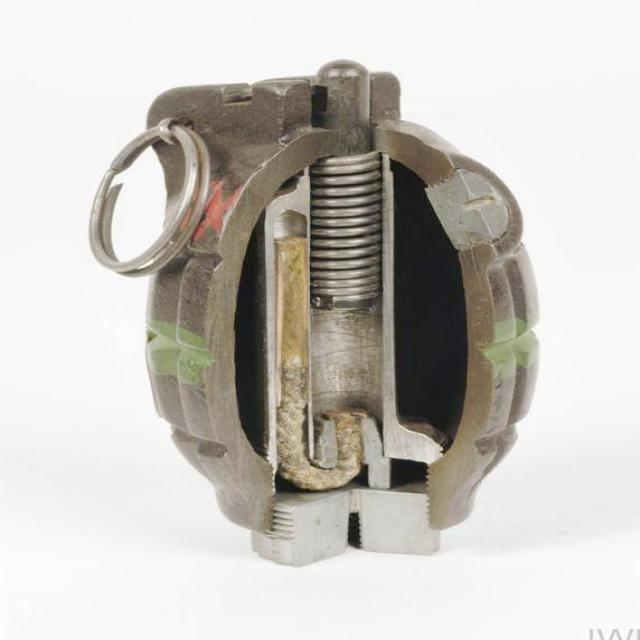grenade: (89, 61, 542, 568)
